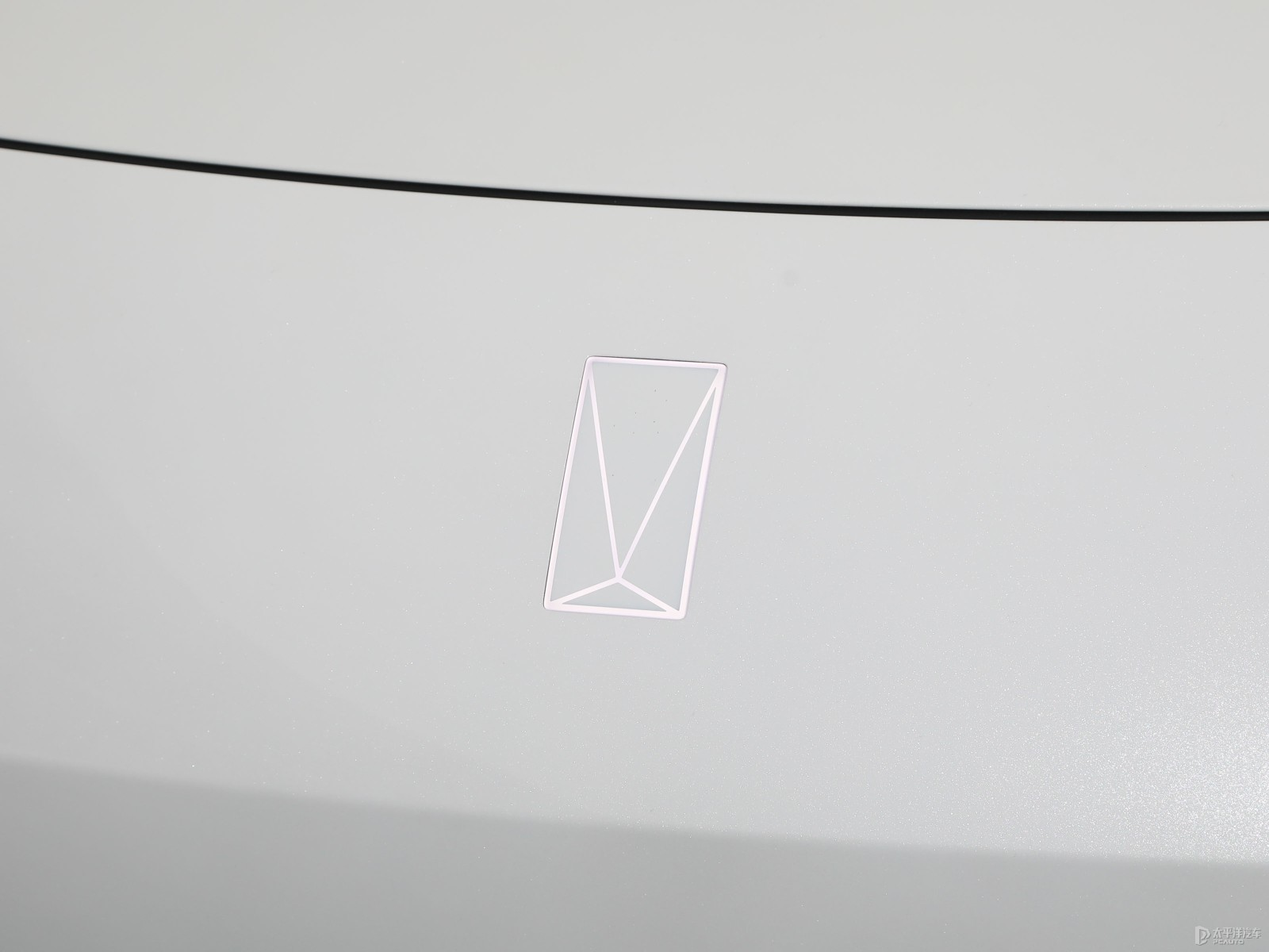AVATR: (543, 356, 727, 620)
